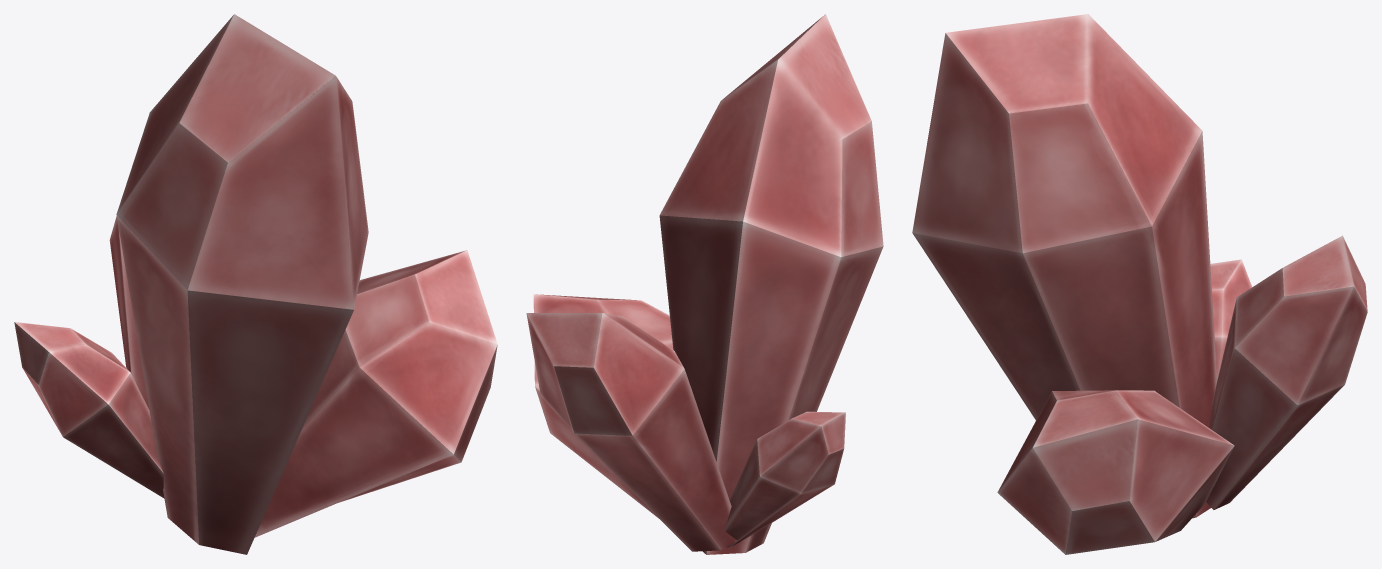
File: lowpoly_crystals_glowing.fbx
3 renders of one model, left to right at view 1: azimuth 30°, elevation 25°; view 2: azimuth 150°, elevation 25°; view 3: azimuth 270°, elevation 25°, orthographic. The views are drawn at different scales.
Visible parts, largest first — view 1: Cube, Cube.003, Cube.002, Cube.001; view 2: Cube, Cube.001, Cube.002, Cube.003; view 3: Cube, Cube.003, Cube.001, Cube.002.
Boxes of the visible parts, left/top/right/bottom form: Cube: left=116, top=14, right=368, bottom=554; Cube.003: left=254, top=250, right=497, bottom=537; Cube.002: left=14, top=322, right=164, bottom=498; Cube.001: left=109, top=216, right=149, bottom=409; Cube: left=659, top=14, right=883, bottom=554; Cube.001: left=526, top=313, right=736, bottom=551; Cube.002: left=724, top=411, right=845, bottom=547; Cube.003: left=533, top=294, right=673, bottom=518; Cube: left=912, top=14, right=1217, bottom=518; Cube.003: left=997, top=390, right=1234, bottom=554; Cube.001: left=1206, top=235, right=1367, bottom=509; Cube.002: left=1210, top=259, right=1251, bottom=379.
Bounding box in the file's own units: 678 × 897 × 737.
